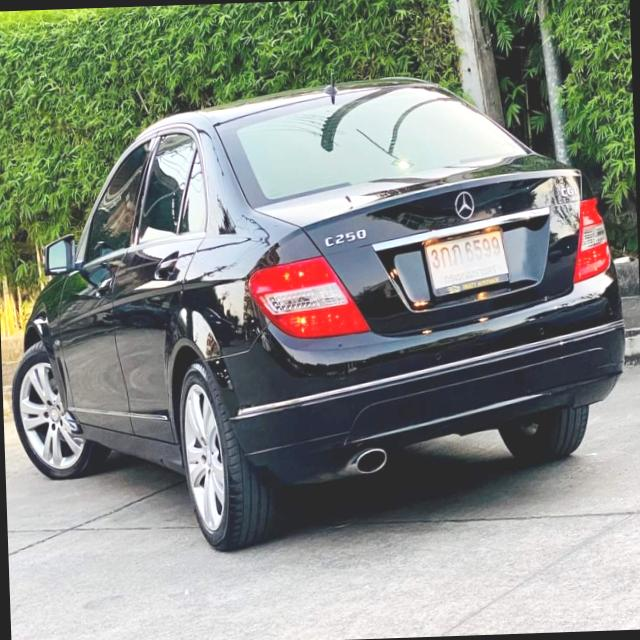license_plate: (421, 226, 511, 304)
